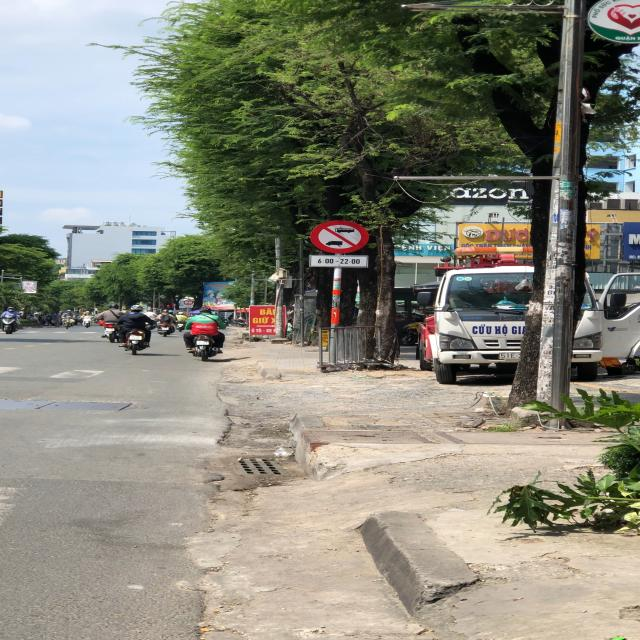Bien bao cam xe oto khach va xe oto tai: (309, 217, 374, 255)
